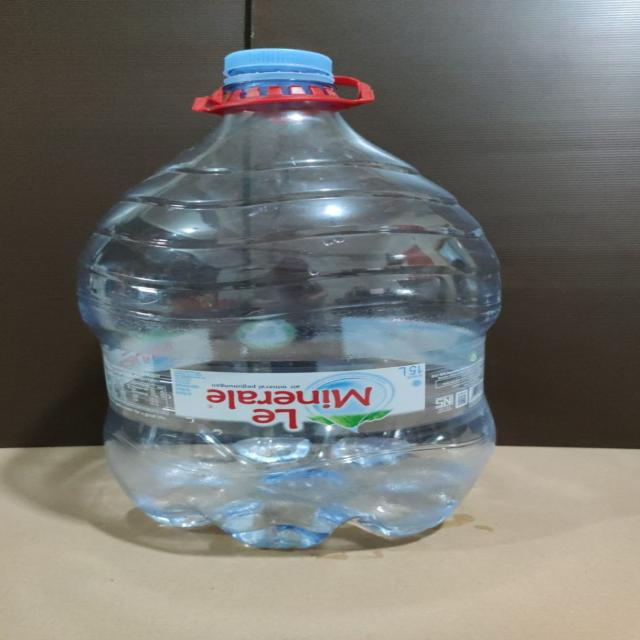Galon: (74, 47, 505, 549)
